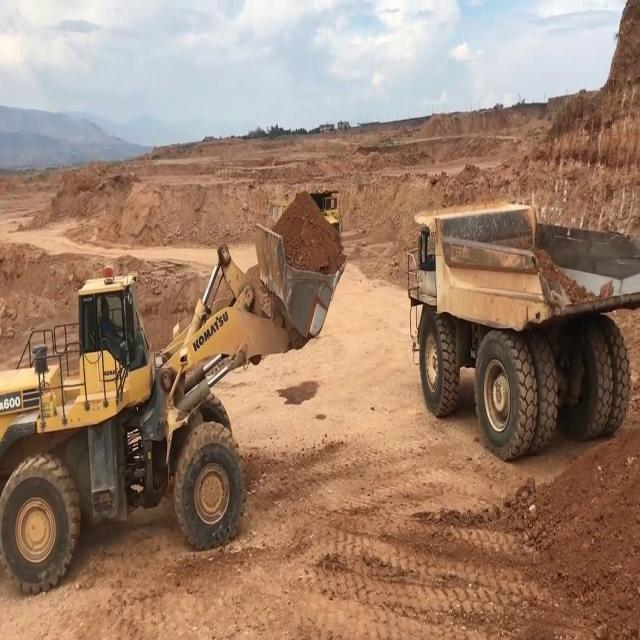buldozerpayloadergrader: (0, 188, 349, 604)
dump_truck: (403, 197, 640, 462)
